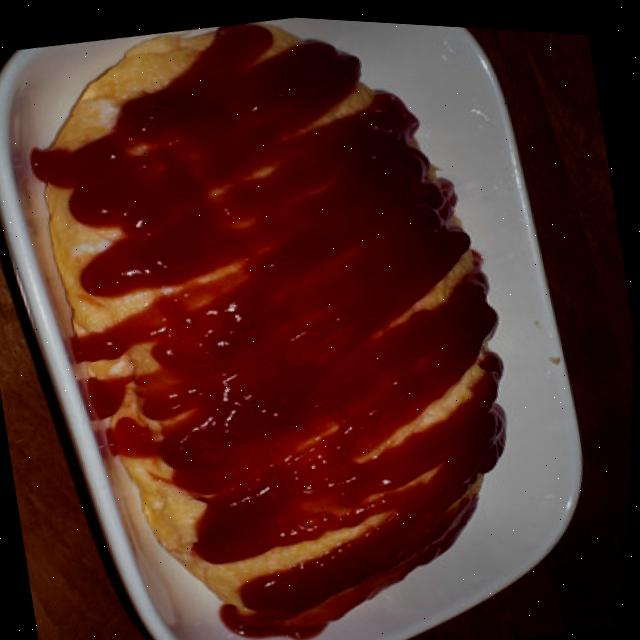鸡蛋料理: (18, 1, 575, 640)
